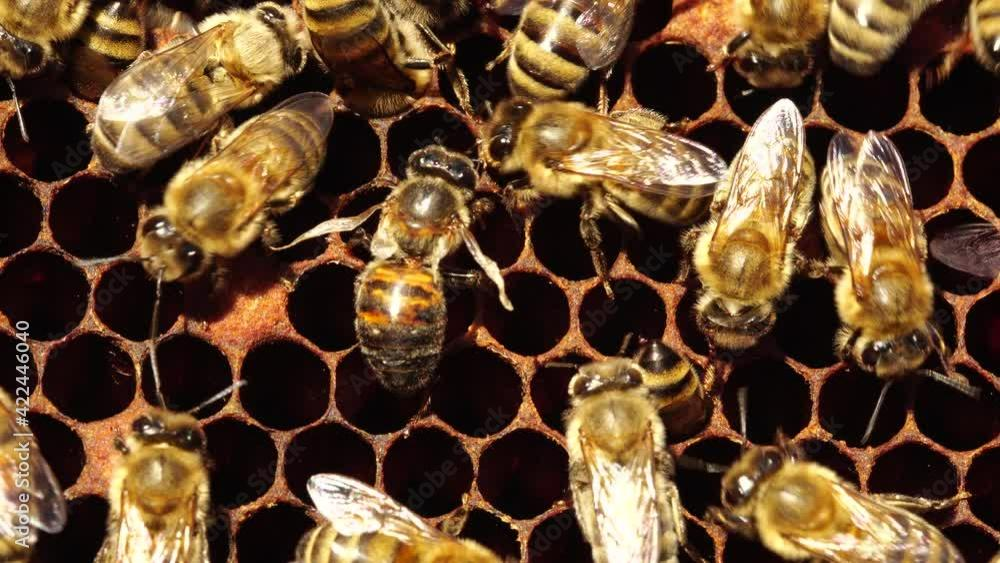worker-bee: (820, 131, 979, 442), (484, 97, 726, 295), (355, 146, 512, 393), (90, 2, 310, 174), (139, 92, 334, 281), (706, 432, 969, 562), (685, 99, 815, 350), (564, 357, 685, 562), (94, 408, 210, 562)
